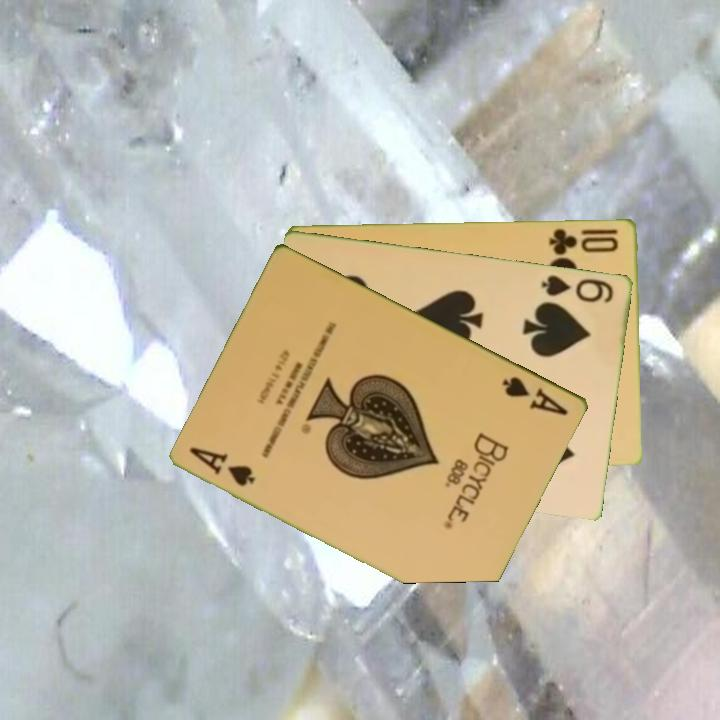10c: (546, 224, 622, 257)
6s: (538, 271, 617, 306)
As: (499, 372, 572, 419), (186, 443, 259, 490)
